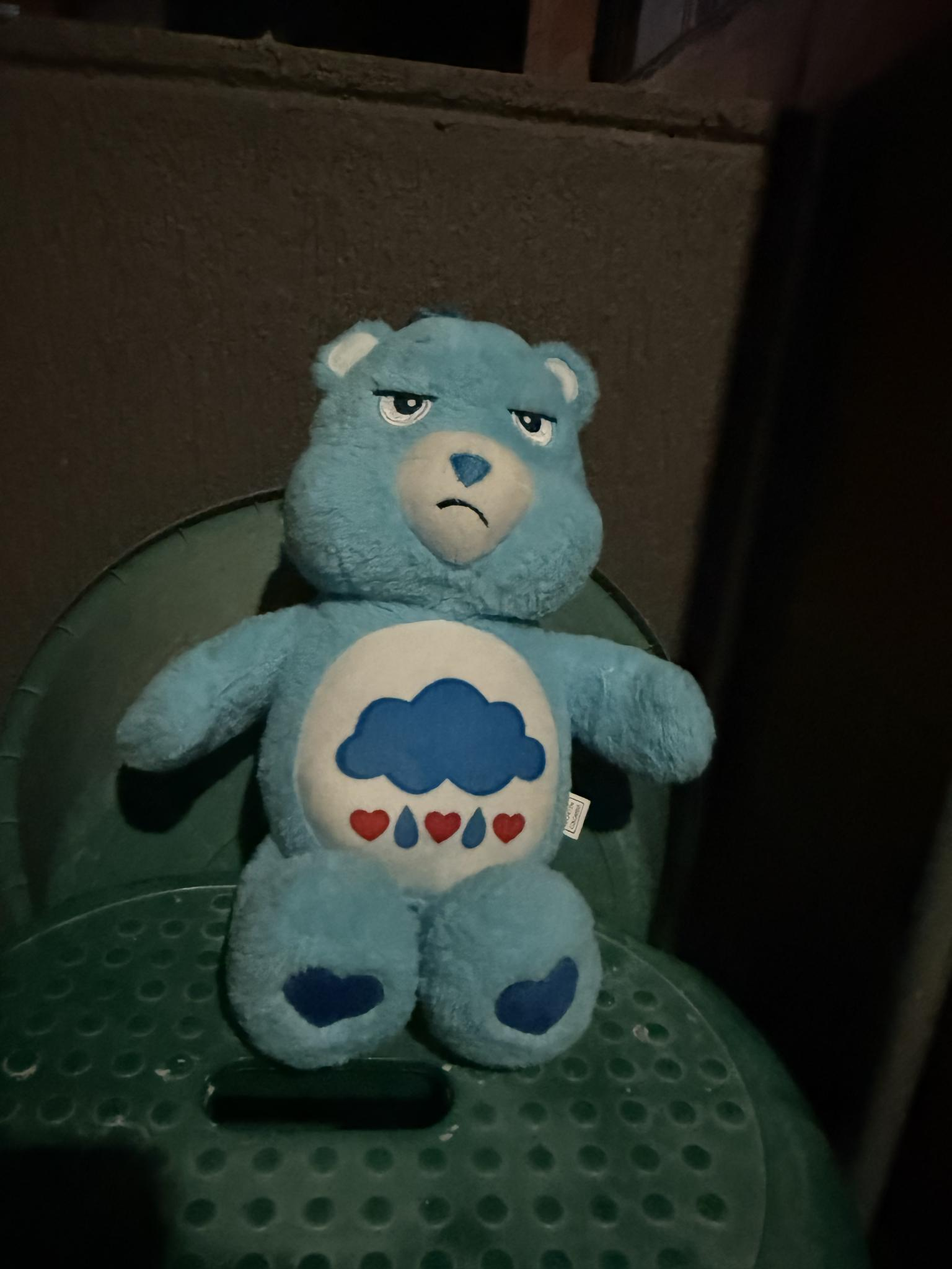peluche_Juan Jose: (109, 307, 719, 1076)
